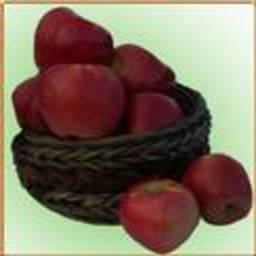apple: (113, 179, 200, 252), (44, 64, 126, 140), (178, 151, 253, 225)
